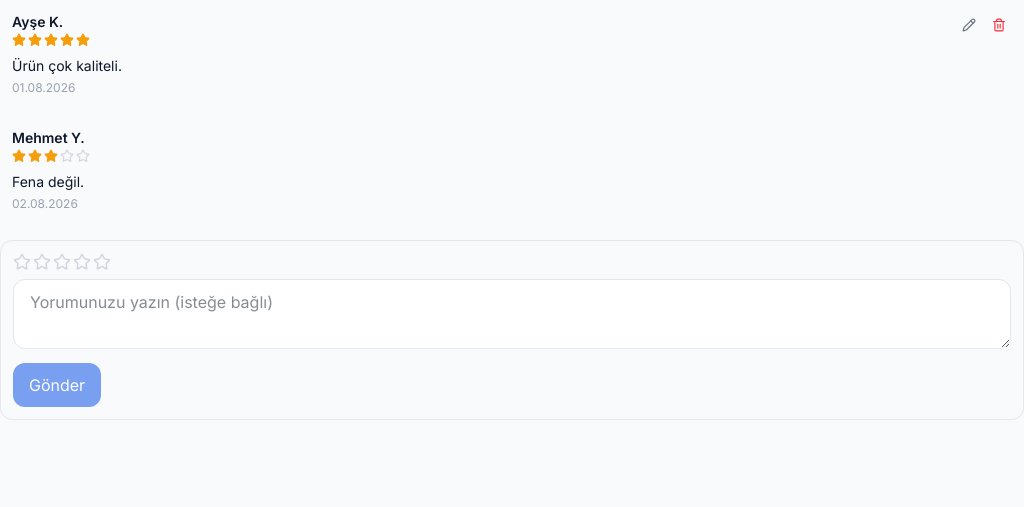
Test case: PetShopProductReviewsSection › gönderim hatası errorMessage olarak görünür
Check: the text "Ayşe K." is shown, box [12,13,63,30]
Click the button with test id "^star-rating-star-" at coordinates (62, 262), box [53,253,71,271]
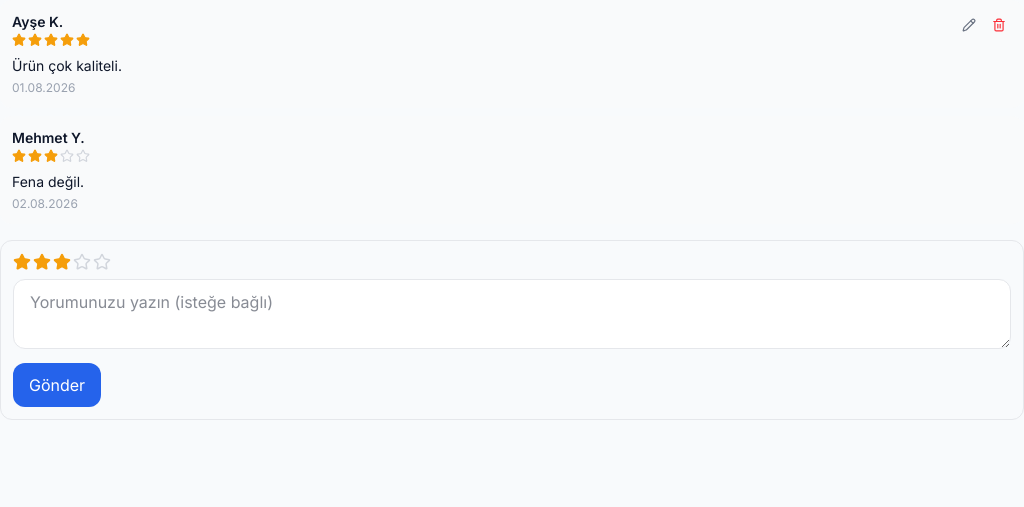
Click the button "Gönder" at coordinates (57, 385), box [13,363,101,407]
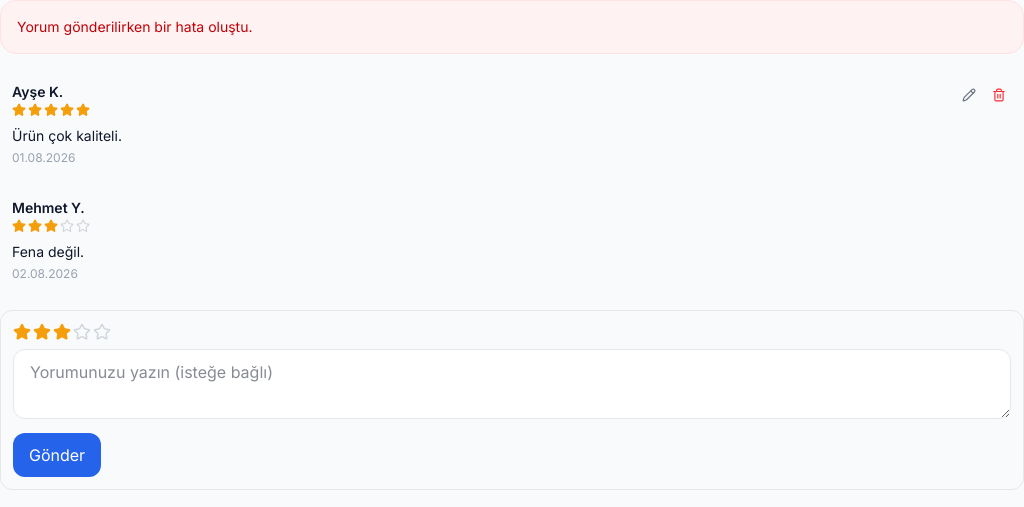
Check: the message reads "Yorum gönderilirken bir hata oluştu.", box [17,18,252,35]
